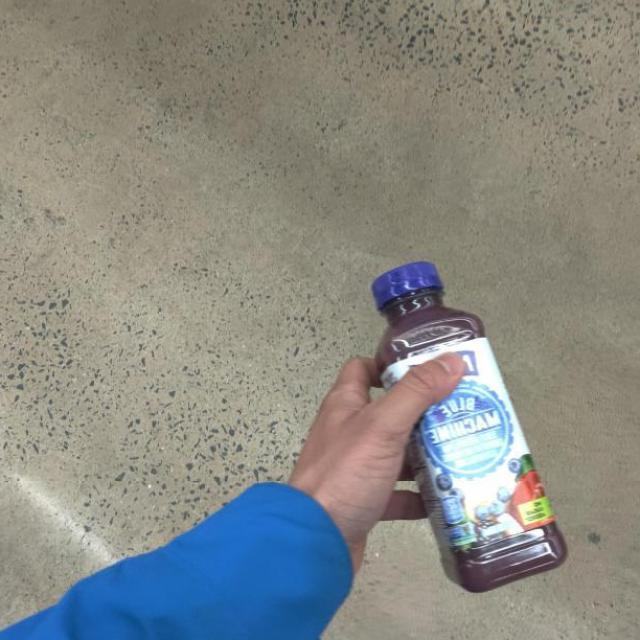Juice: (348, 252, 570, 581)
